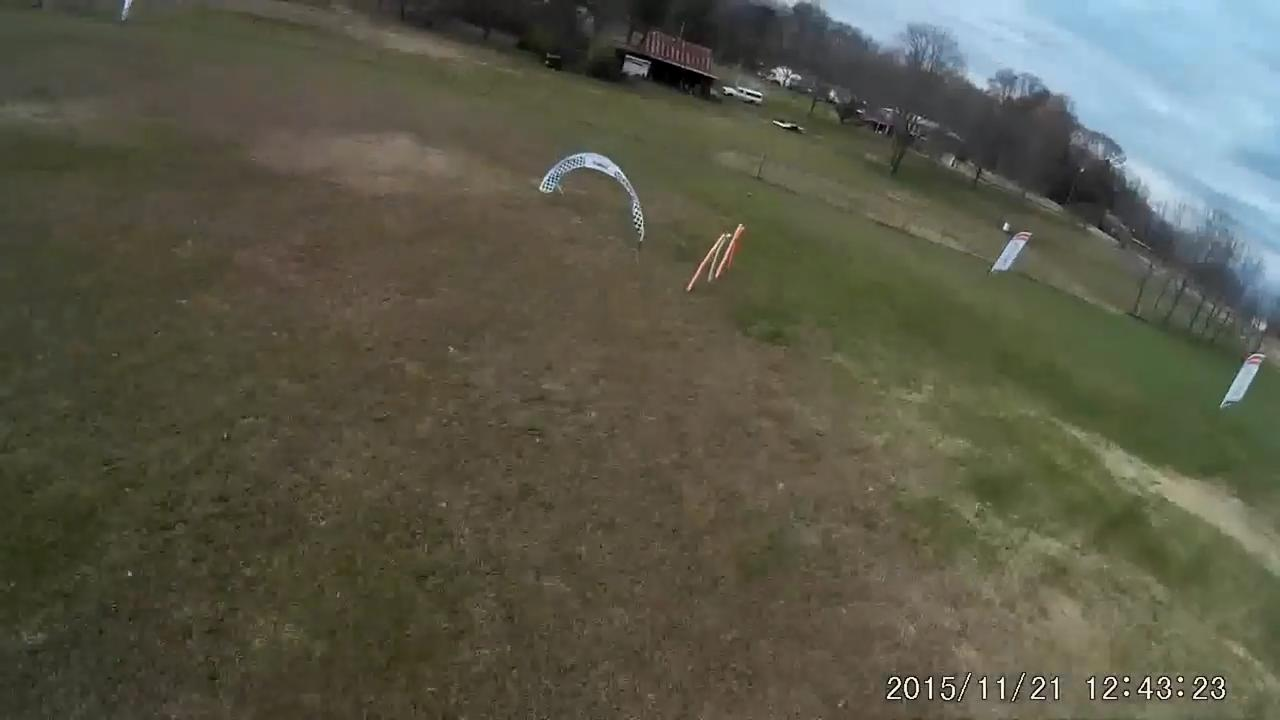gate: (538, 149, 646, 245)
